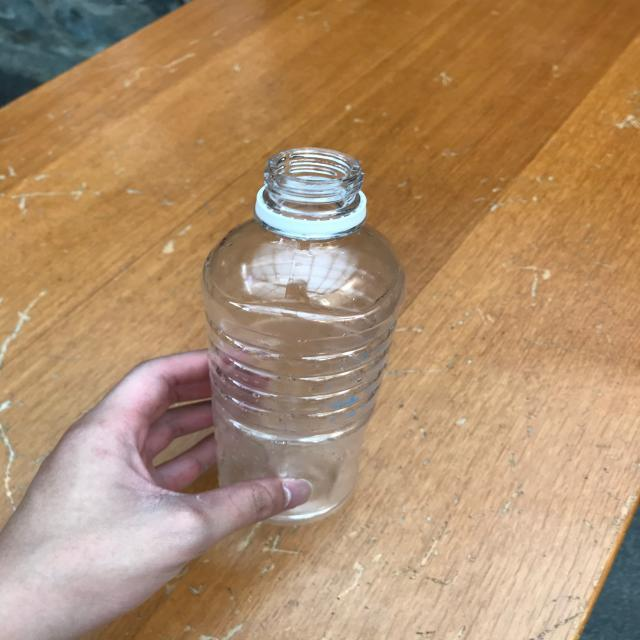plastic_bottle: (202, 147, 405, 526)
